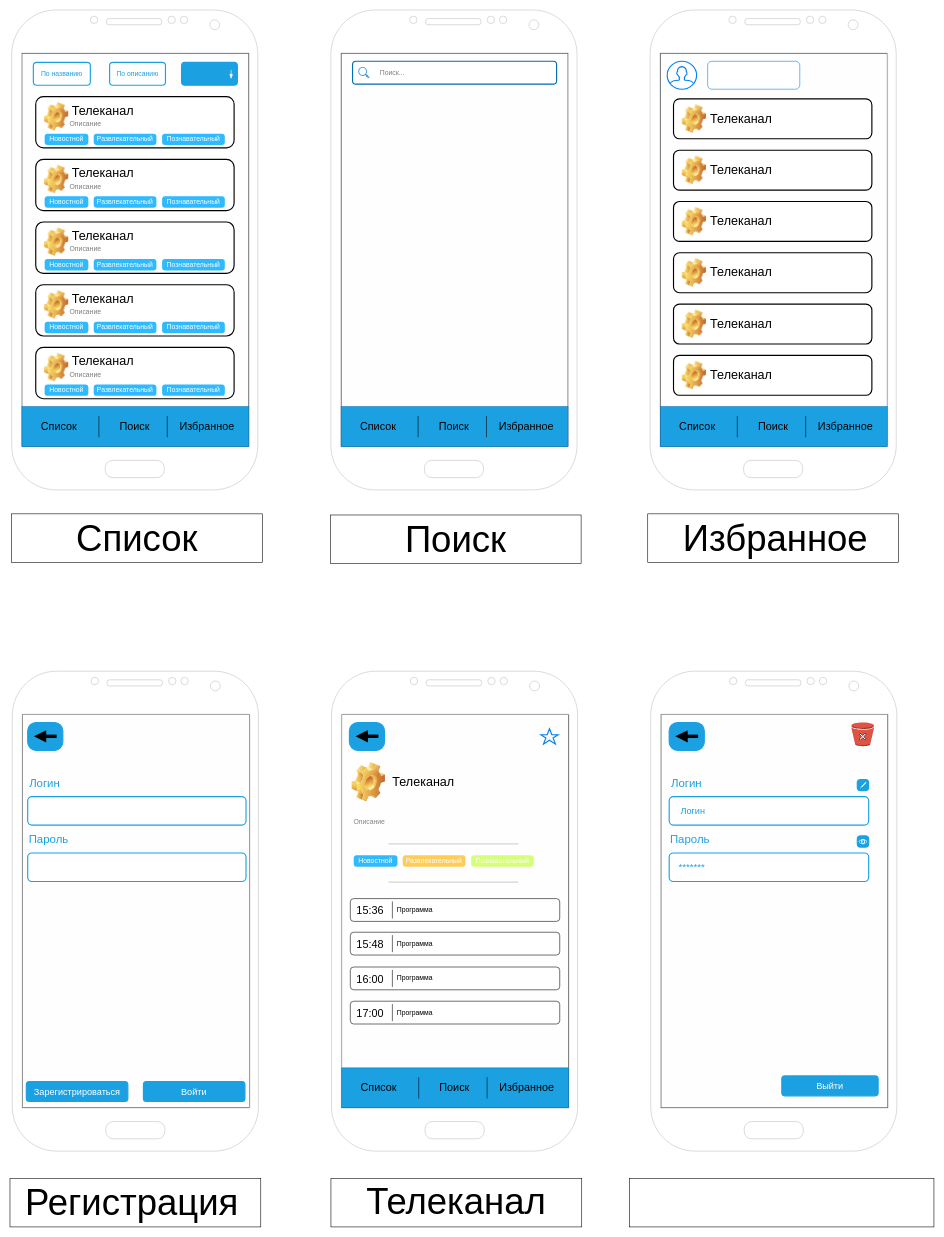
The diagram is 944 pixels wide and 1237 high, and some of its shapes have lost their labels. The shapes that lost their labels are listed below. From the top down, each one's centre as x and y in pixels, then its label:
At [209,73]: "По порядку".
At [753,75]: "Гость".
At [781,1202]: "Личный кабинет".
